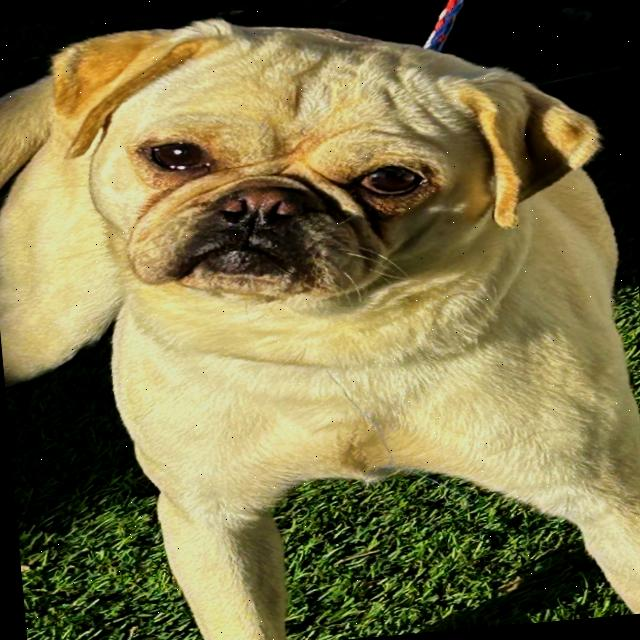pug_dog: (26, 0, 626, 335)
